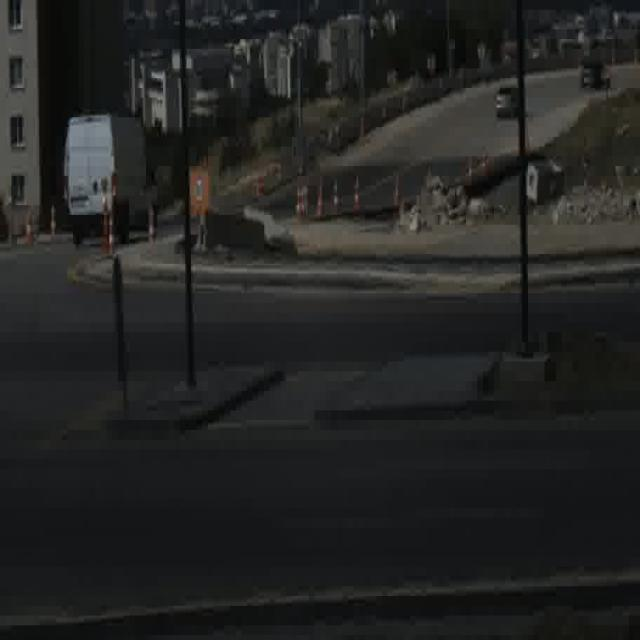Car: (61, 115, 156, 242), (579, 54, 610, 90), (495, 82, 521, 120)
